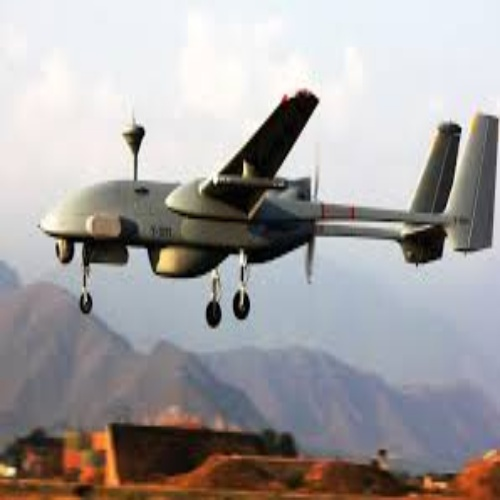uav: (35, 94, 498, 331)
